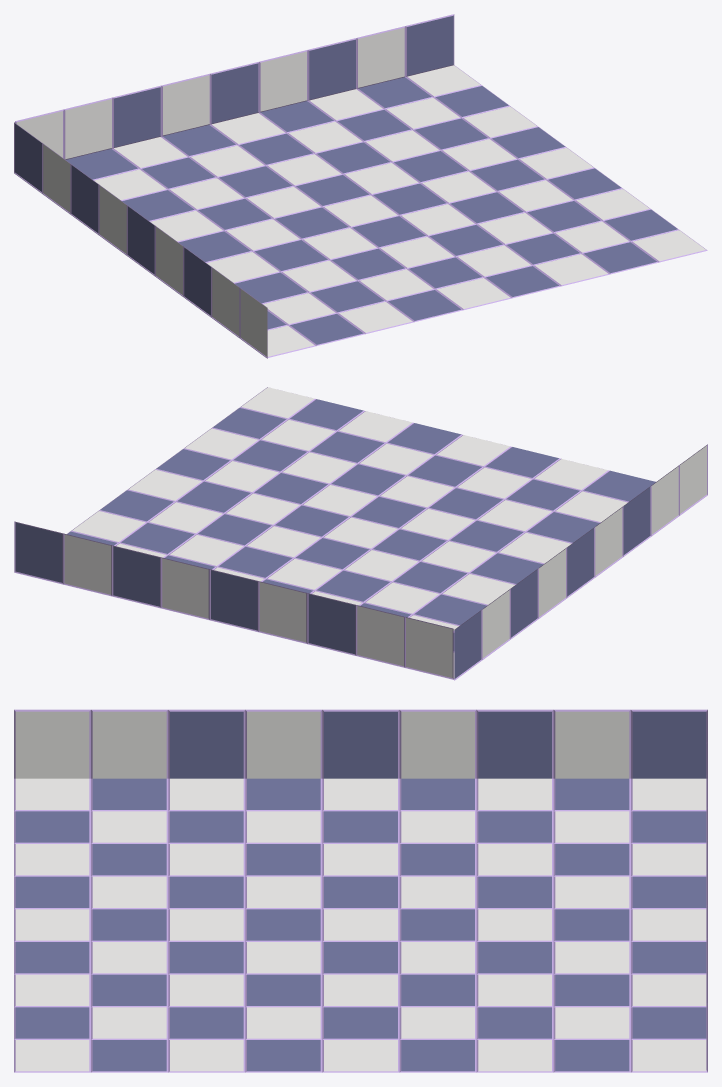
The model's file is Garage_Floortile.fbx.
The picture shows the model from 3 angles, top to bottom: view 1: azimuth 30°, elevation 25°; view 2: azimuth 150°, elevation 25°; view 3: azimuth 270°, elevation 25°; orthographic projection. The views are drawn at different scales.
Visible parts, largest first — view 1: Garage_Floortile; view 2: Garage_Floortile; view 3: Garage_Floortile.
Boxes of the visible parts, left/top/right/bottom form: Garage_Floortile: left=14, top=14, right=707, bottom=358; Garage_Floortile: left=14, top=387, right=707, bottom=680; Garage_Floortile: left=14, top=709, right=707, bottom=1072.
Size of the model in its own units: 490 by 55.28 by 489.
